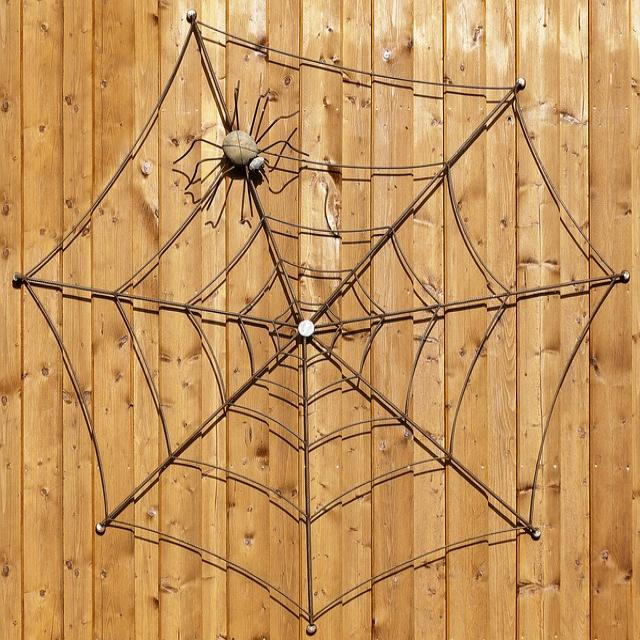spyder: (201, 129, 270, 202)
